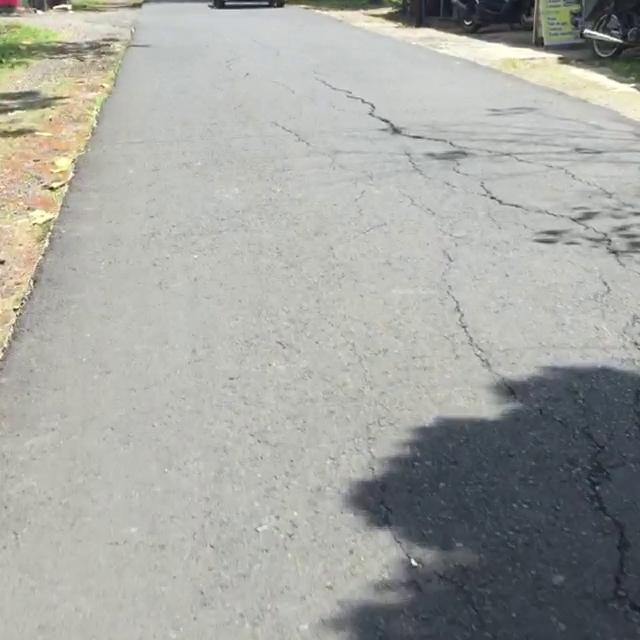retak_memanjang: (410, 272, 640, 640), (472, 180, 640, 302), (327, 77, 489, 160)
